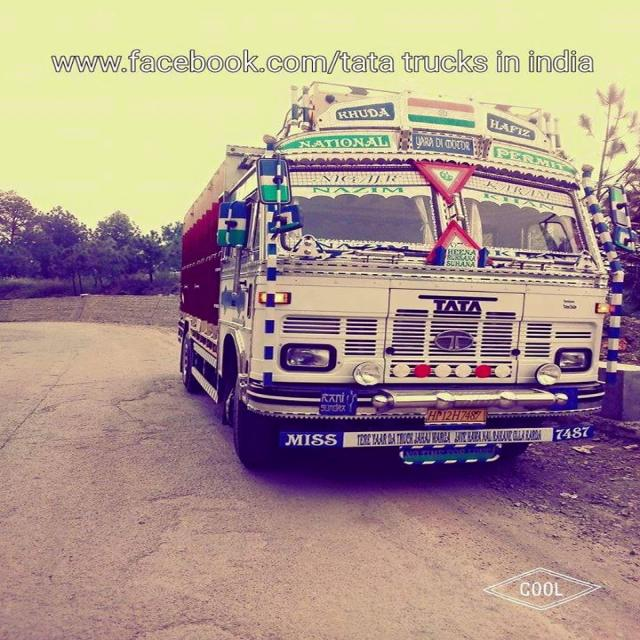truck: (157, 65, 628, 502)
